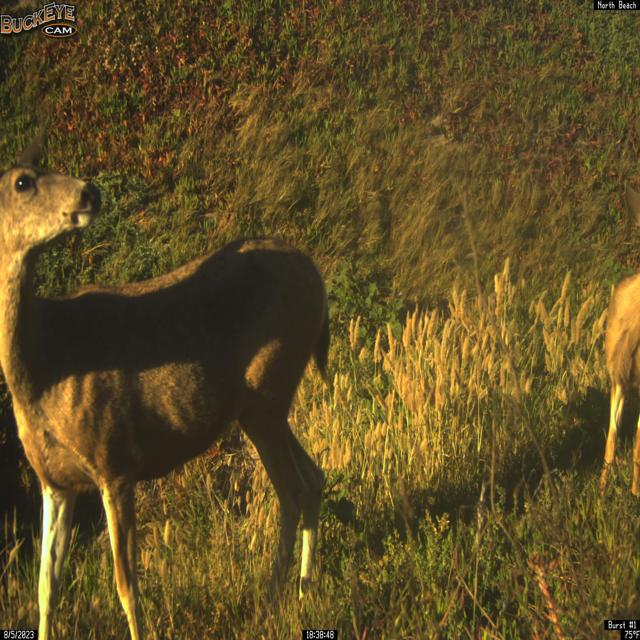deer: (0, 124, 333, 640)
